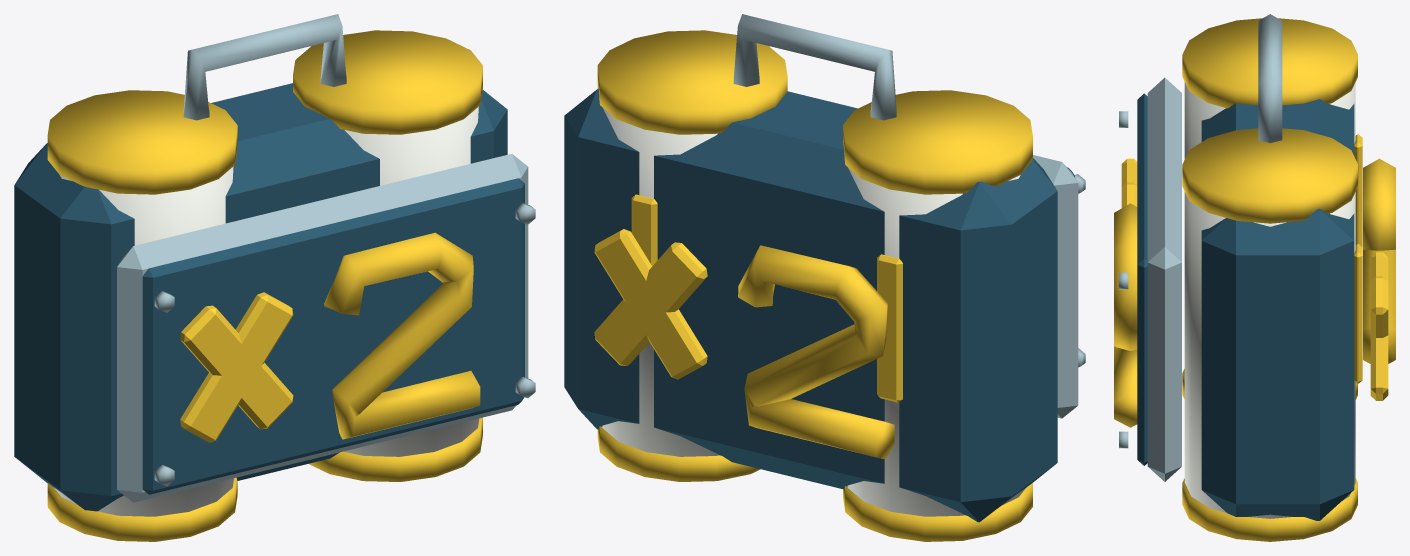
Rendered from multiplier.glb.
3 views of the same model, side by side, from view 1: azimuth 30°, elevation 25°; view 2: azimuth 150°, elevation 25°; view 3: azimuth 270°, elevation 25° (orthographic). The views are drawn at different scales.
Visible parts, largest first — view 1: Coastal club | multiplier; view 2: Coastal club | multiplier; view 3: Coastal club | multiplier.
Boxes of the visible parts, <box> form: Coastal club | multiplier: <box>14,14,535,541</box>; Coastal club | multiplier: <box>564,14,1085,541</box>; Coastal club | multiplier: <box>1114,14,1395,541</box>.
Size of the model in its own units: 0.62 by 0.5829 by 0.3693.
